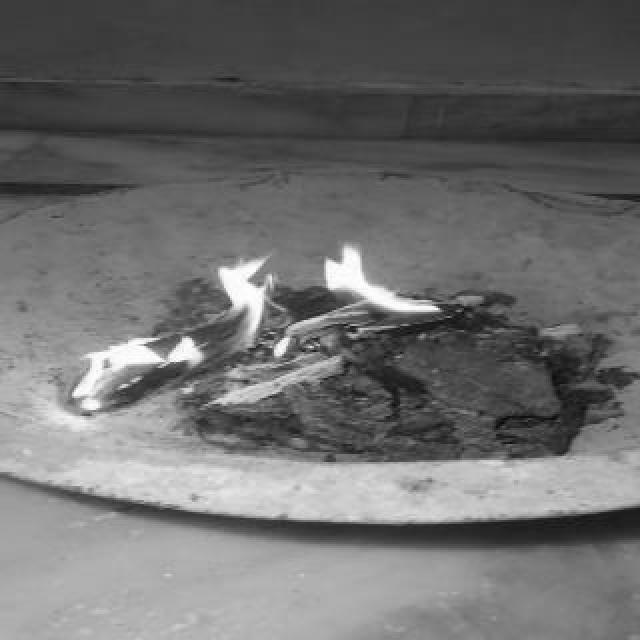Fire: (78, 248, 456, 418)
